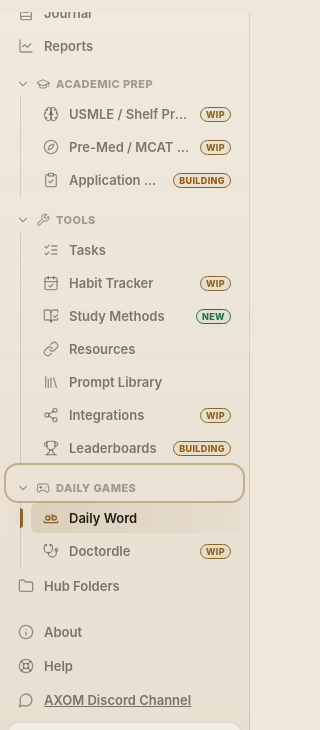
sidebar folder disclosure accessibility › uses a stable Daily Games disclosure and removes collapsed children from keyboard navigation
(page scrolled)
Click the button "Daily Games": (124, 483) [8,467,241,499]
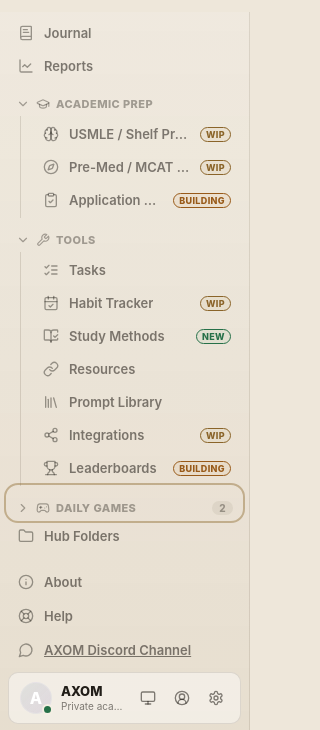
Check: the button "Daily Games 2" is collapsed, box [8,487,241,519]
